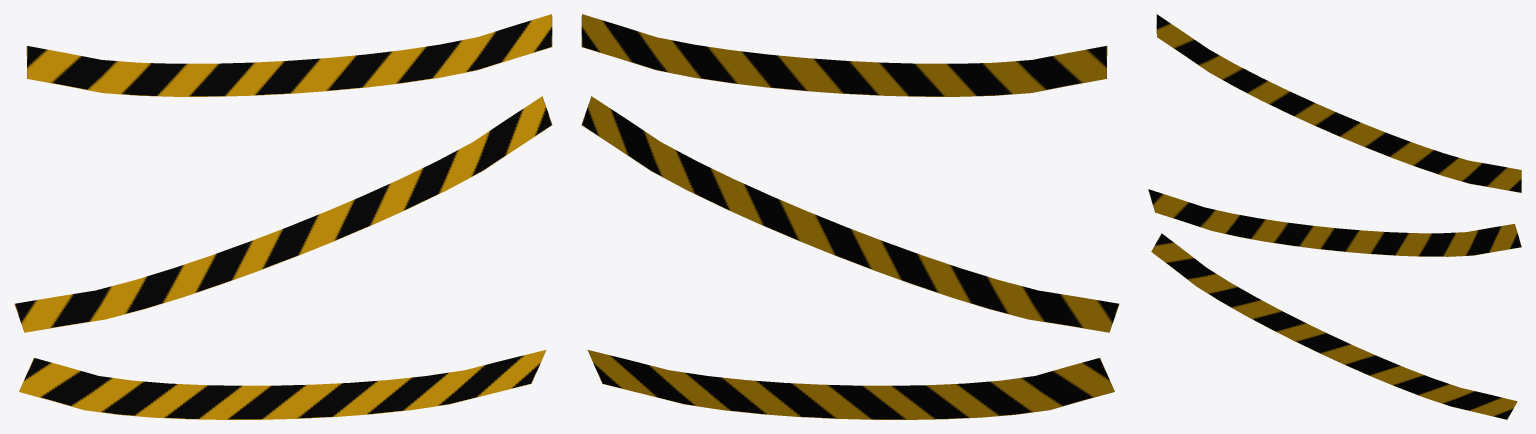
Rendered from tasma_winda.fbx.
3 views of the same model, side by side, from view 1: azimuth 30°, elevation 25°; view 2: azimuth 150°, elevation 25°; view 3: azimuth 330°, elevation 25° (orthographic). The views are drawn at different scales.
Parts seen in each view (by area): view 1: Plane.001; view 2: Plane.001; view 3: Plane.001.
Boxes of the visible parts, x1,y1,x2,y2 form: Plane.001: (14,14,552,419); Plane.001: (581,14,1119,419); Plane.001: (1148,14,1521,419).
Bounding box in the file's own units: 374 × 307 × 2.36e-05.
